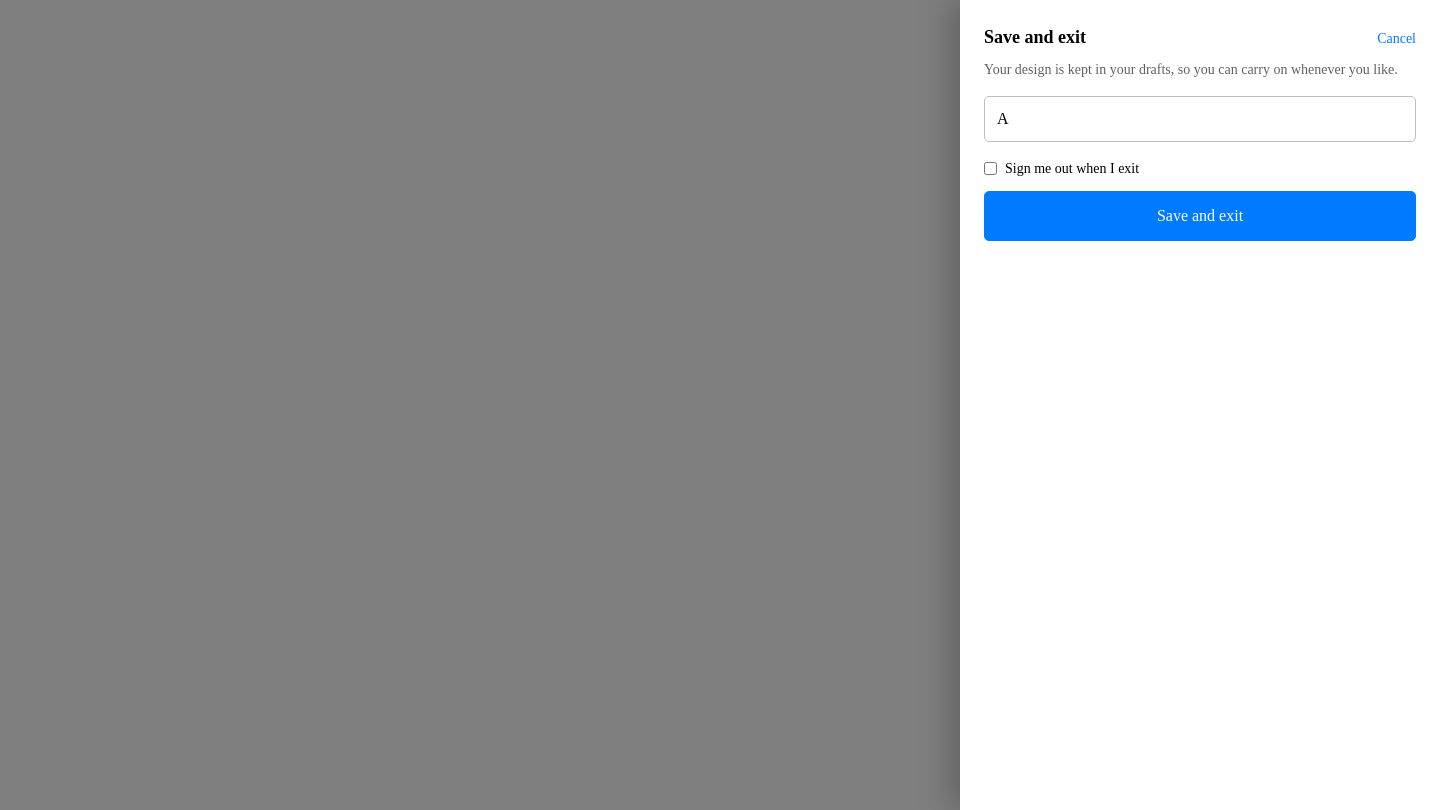
Scenario: SaveAndExitDialog › doesn't leave when saving fails, and says so
The width and height of the screenshot is (1440, 810).
Expected: the button "Save and exit" is enabled, [984,191,1416,241]
Replace the text in the field named "order name" with "B" at {"x": 1200, "y": 119}, box [984,96,1416,142]
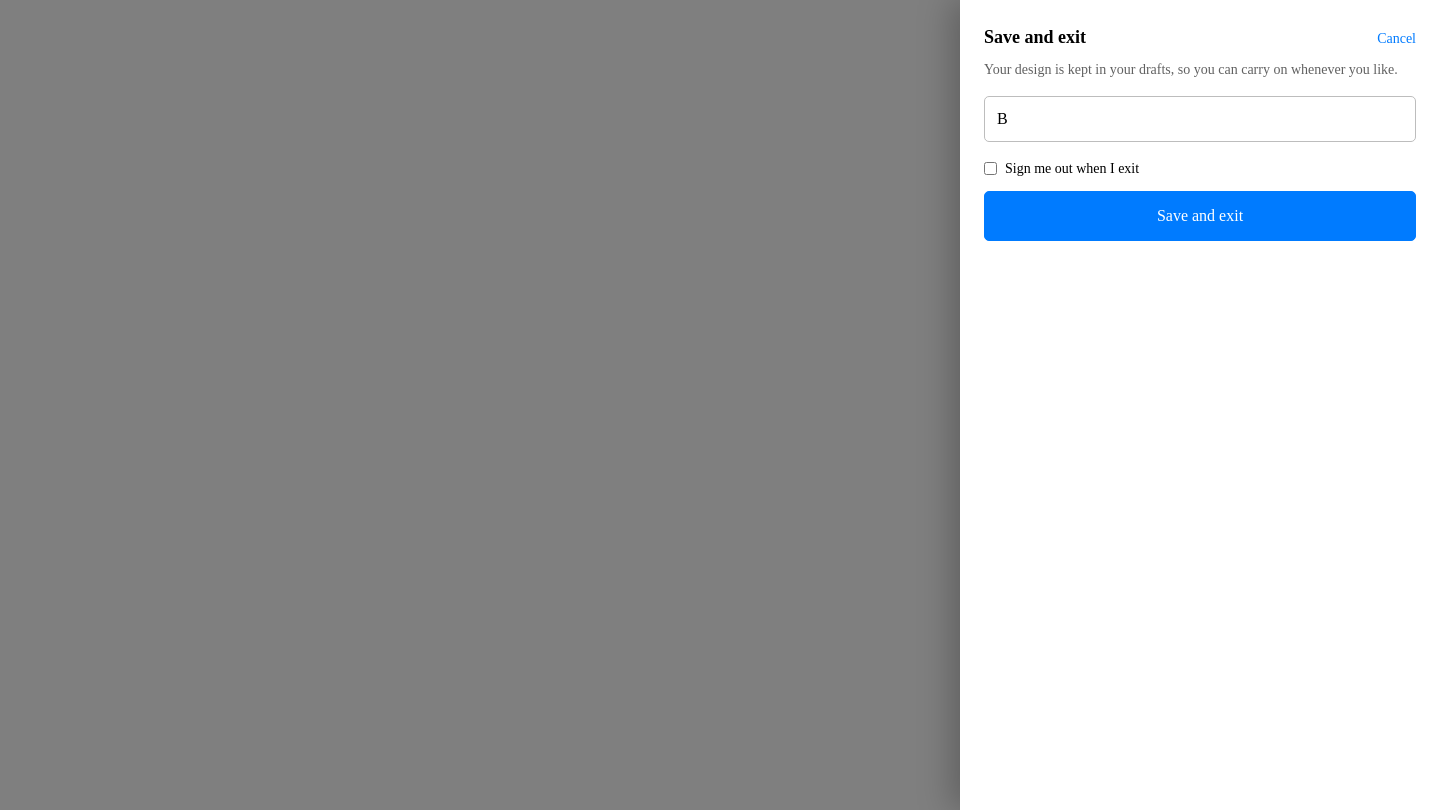
Click the button "Save and exit" at {"x": 1200, "y": 216}, box [984,191,1416,241]
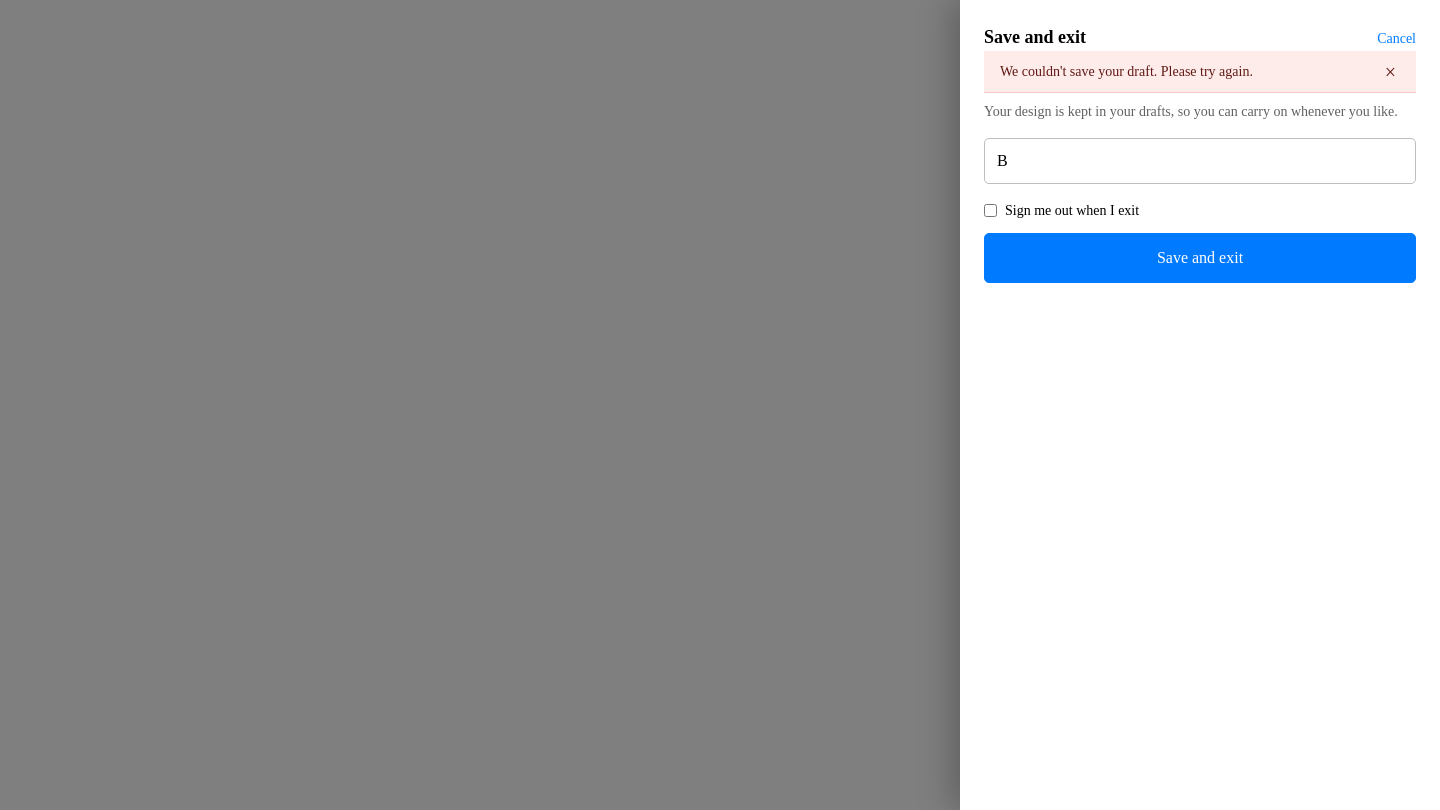
Expected: the button "Save and exit" is enabled, [984,233,1416,283]
Result: the text "We couldn't save your draft. Please try again." is shown at [1000,61,1253,82]
